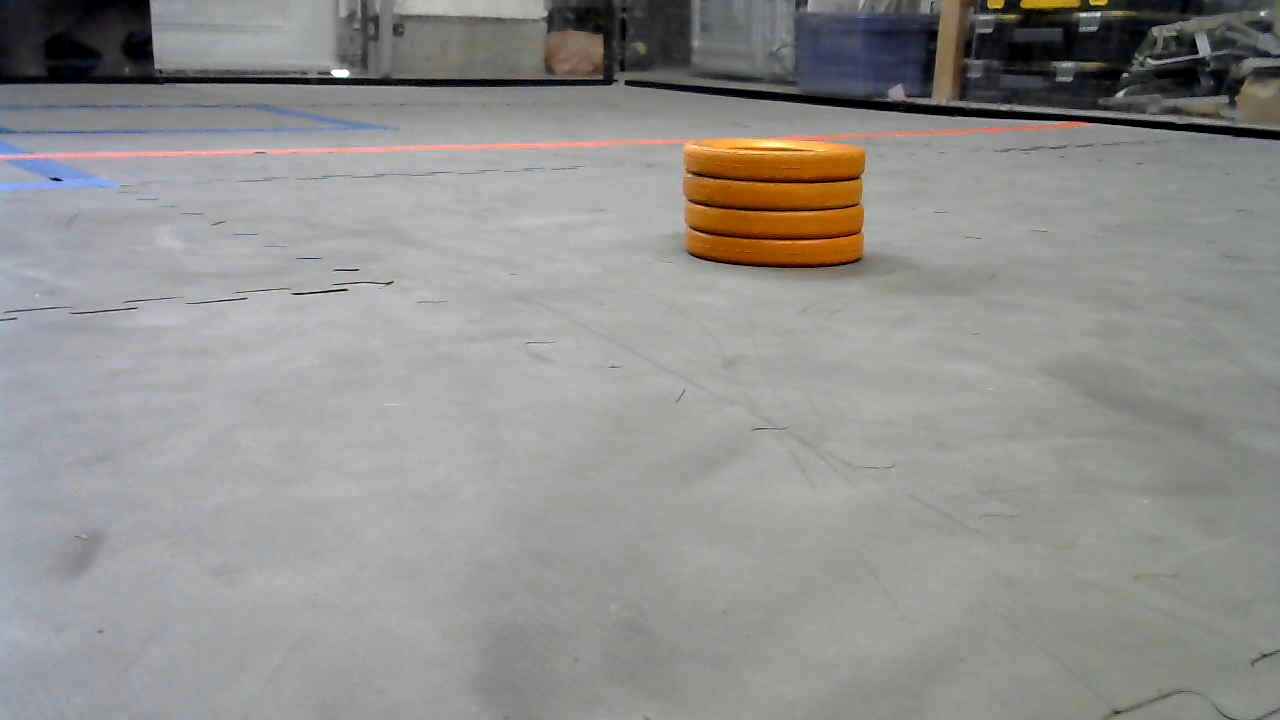FourStack: (682, 138, 866, 266)
